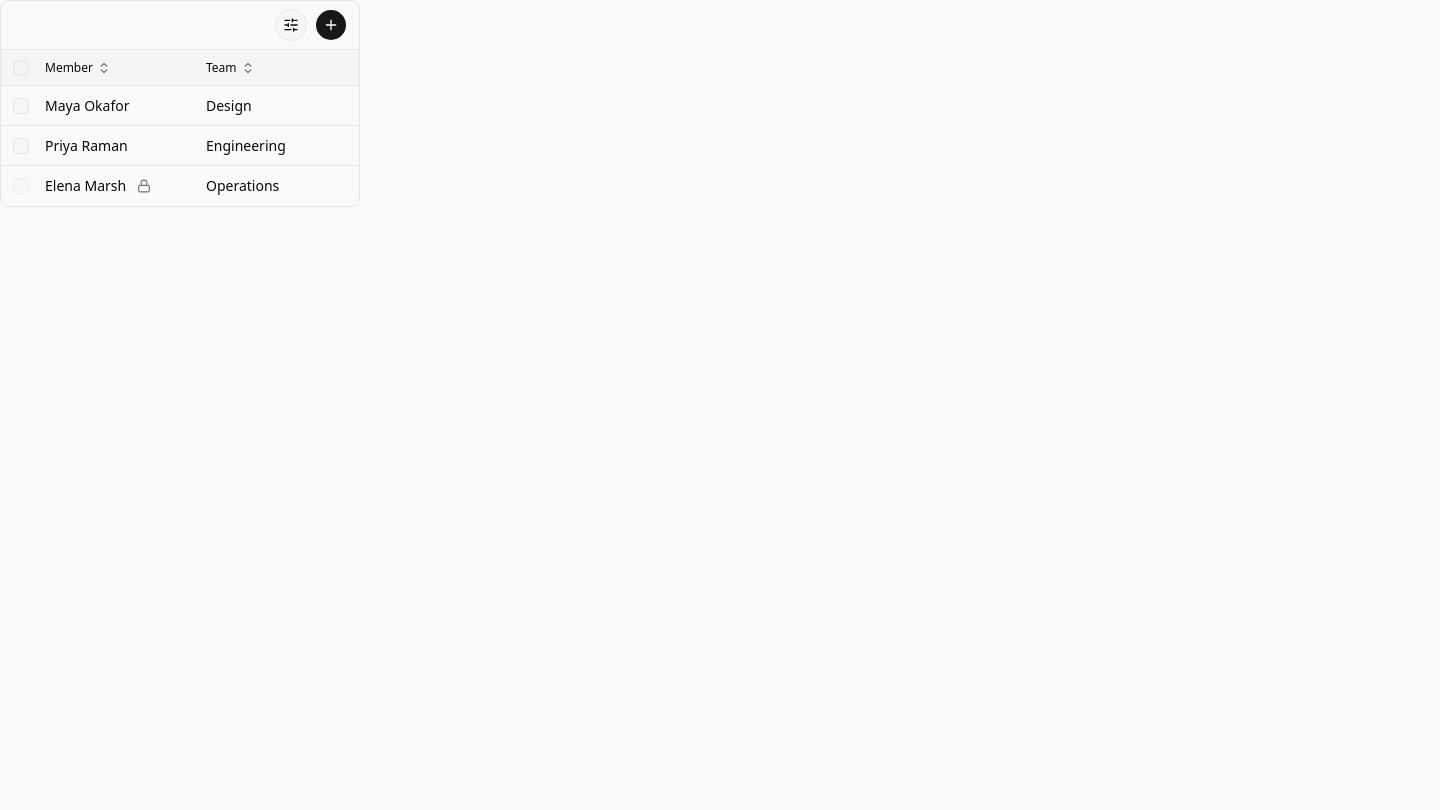
Test case: DataTable at narrow widths › moves filters into a sheet and keeps the search
The width and height of the screenshot is (1440, 810).
Click the button named "Filters" at (291, 25), box [275, 9, 307, 41]
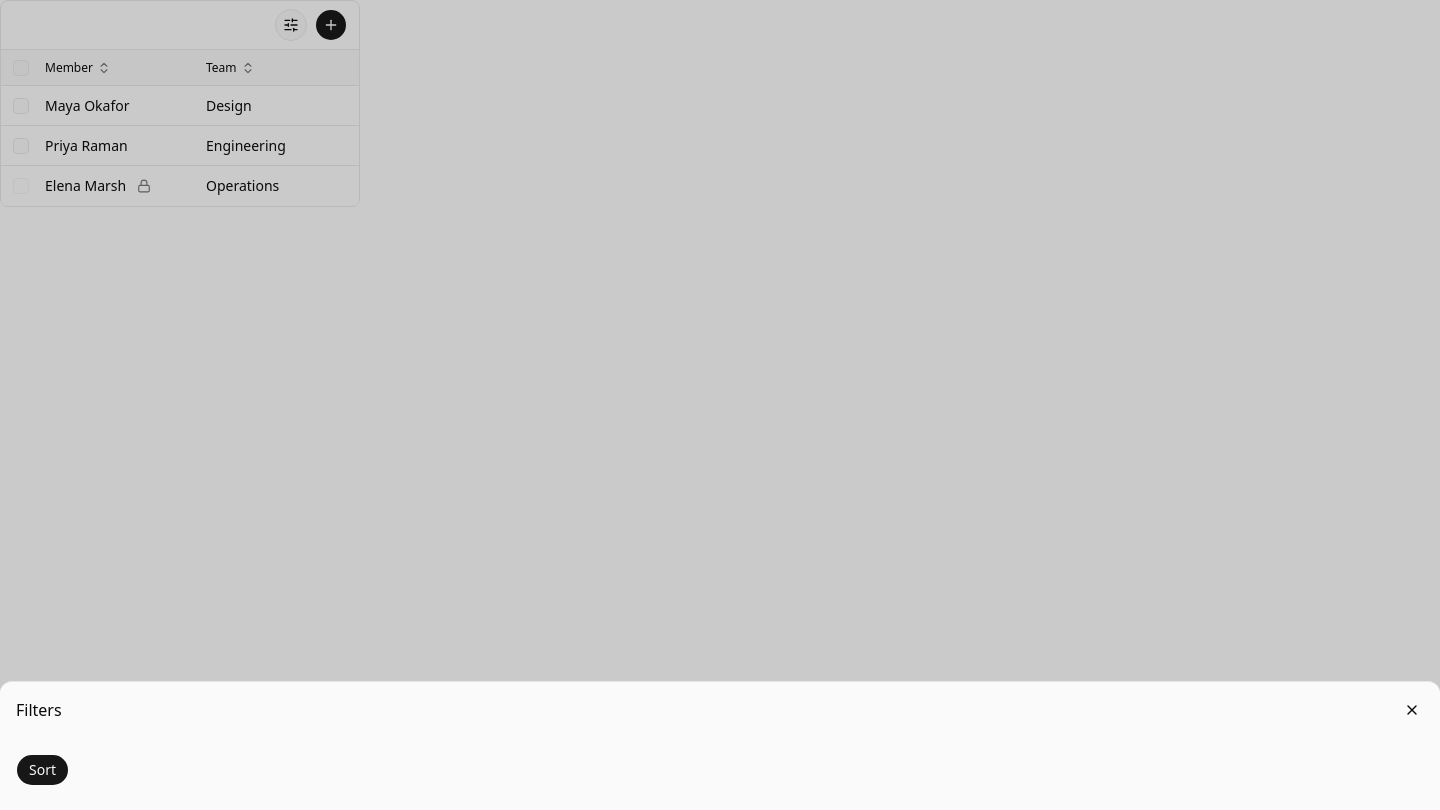
Result: the dialog "Filters Sort" is shown at [0, 681, 1439, 809]
Result: the button "Sort" is shown at [16, 754, 69, 786]
